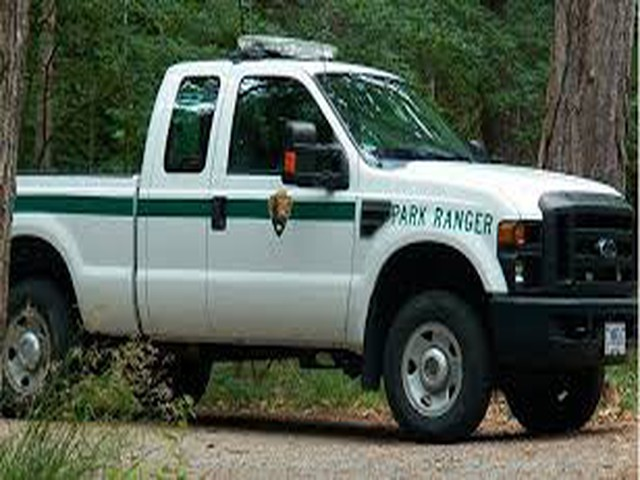Vehicle: (10, 32, 635, 443)
